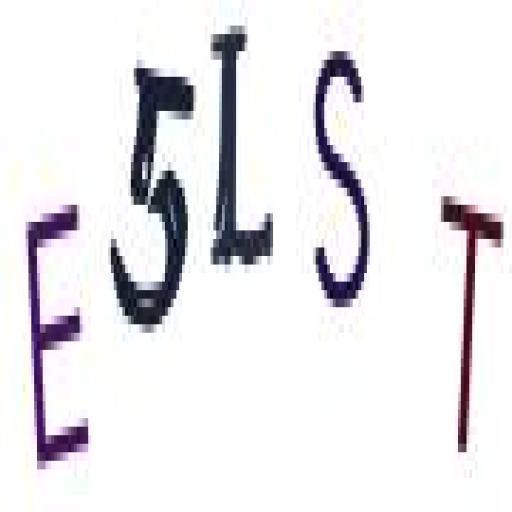5: (107, 45, 200, 342)
E: (24, 202, 94, 468)
L: (207, 18, 279, 282)
S: (308, 37, 373, 318)
T: (436, 175, 507, 470)
